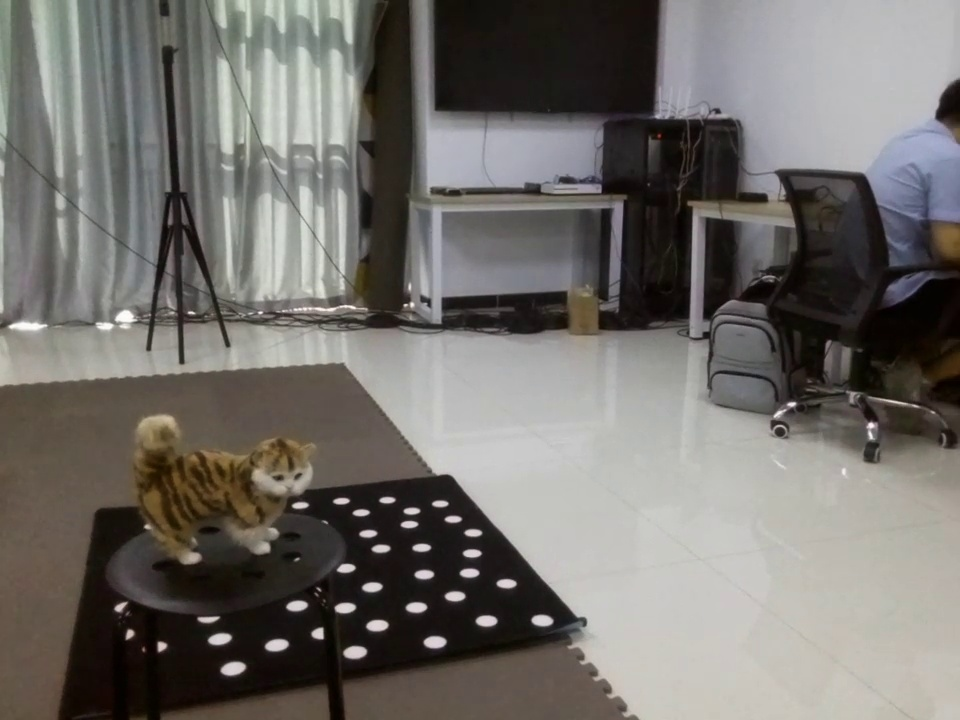cat: (115, 411, 328, 566)
